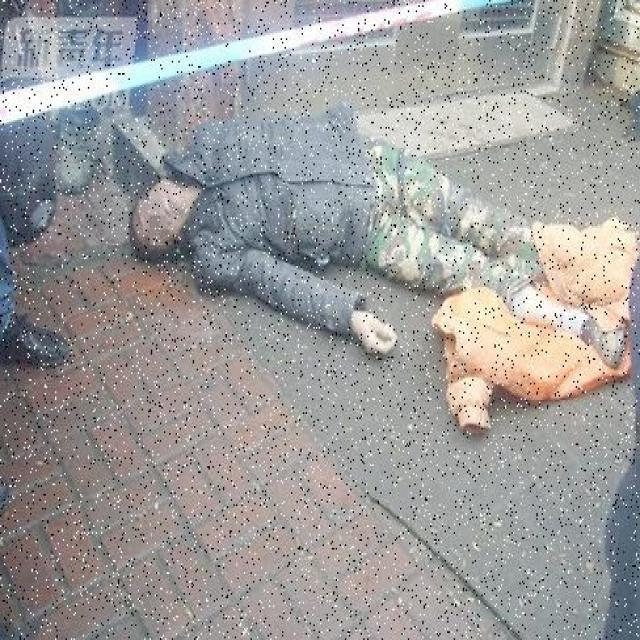fall: (125, 104, 620, 358)
